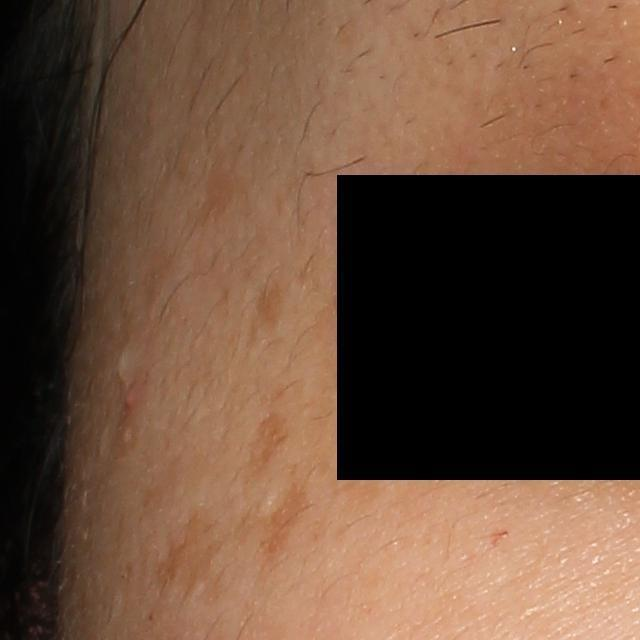comedo: (113, 347, 133, 386)
melasma: (144, 512, 230, 632), (238, 384, 292, 499), (260, 482, 319, 577), (254, 271, 297, 338)
papule: (120, 387, 143, 411)
